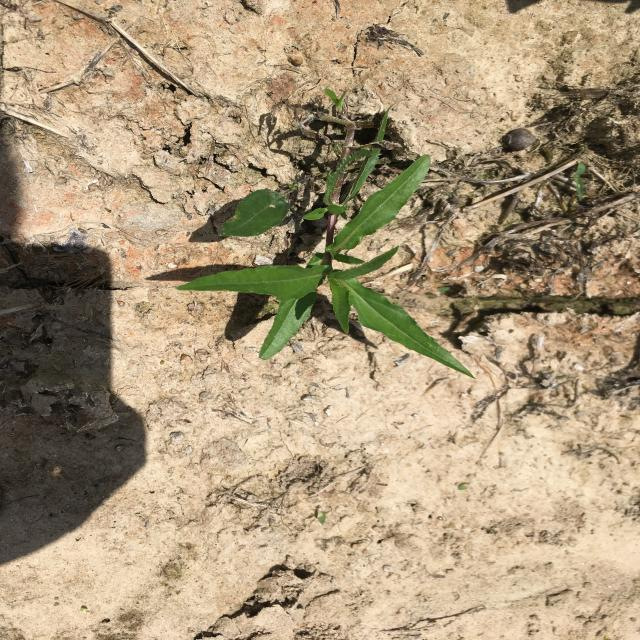Eclipta: (176, 89, 477, 379)
